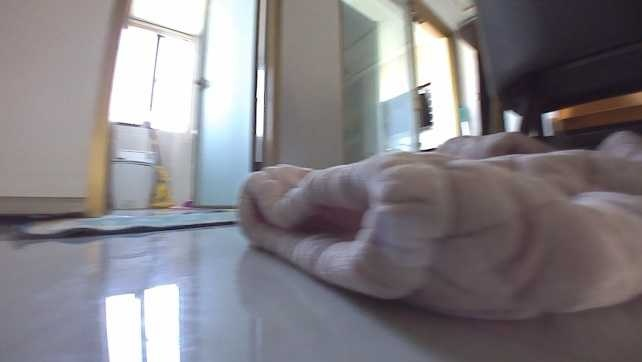blanket: (16, 205, 247, 238)
door_anno: (191, 0, 258, 209)
toilet: (107, 121, 158, 210)
